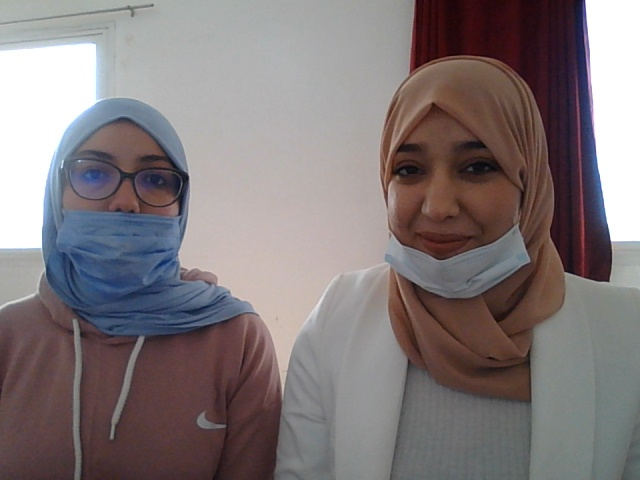mask_weared_incorrect: (356, 74, 558, 309), (49, 98, 185, 299)
